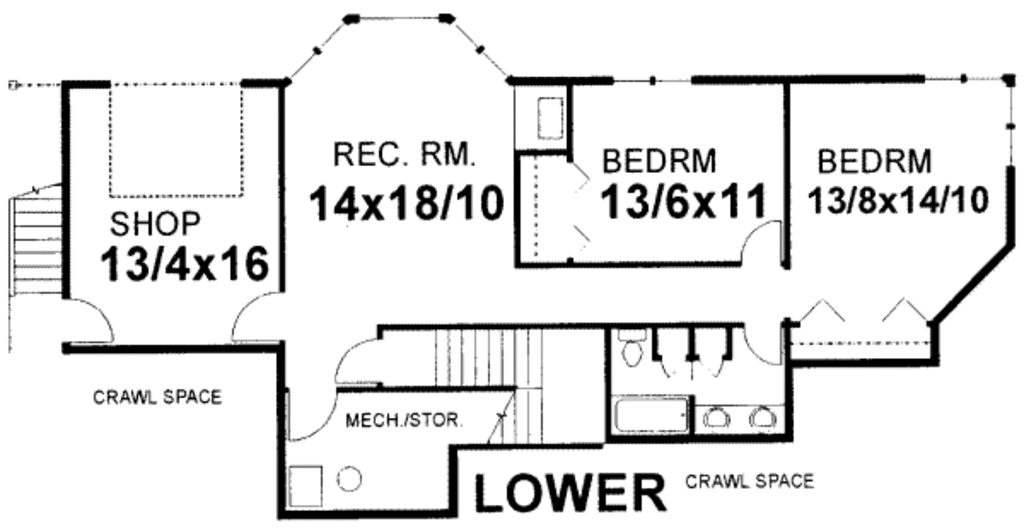door: (220, 287, 296, 347), (280, 382, 345, 446), (330, 318, 385, 388), (735, 215, 790, 273), (69, 294, 126, 349), (728, 322, 789, 365)
large_sink: (618, 322, 648, 378)
small_sink: (695, 404, 784, 435)
stairs: (402, 321, 555, 447), (3, 164, 64, 344)
tub: (616, 386, 698, 436)
